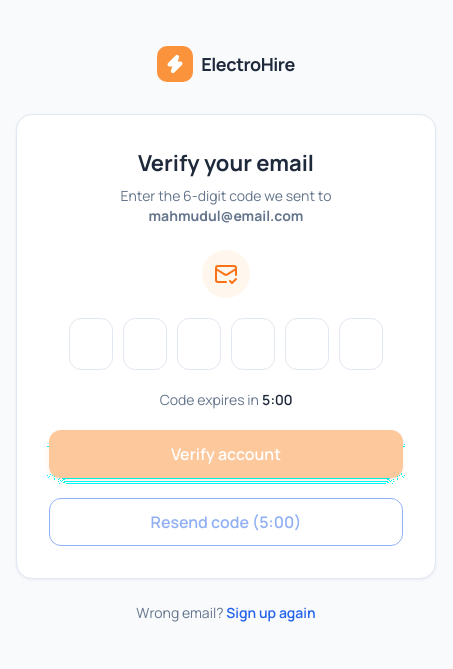
Test case: VerifyOtpPage › shows an error and stays on the page for an invalid OTP
In the 1st field: {"x": 91, "y": 344} [69,318,113,370], type "9"
In the 2nd field: {"x": 145, "y": 344} [123,318,167,370], type "9"
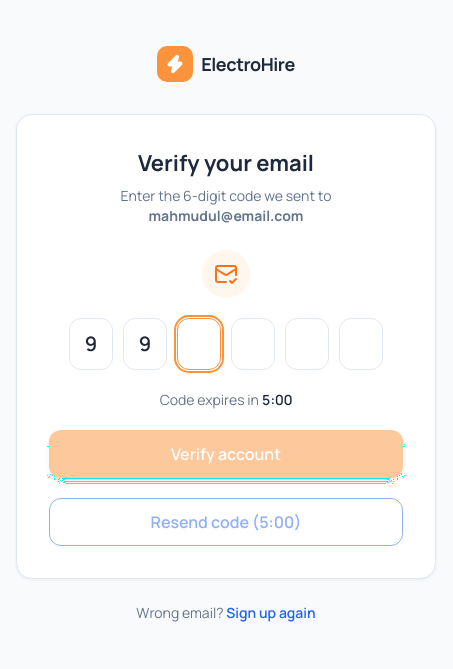
In the 3rd field: {"x": 199, "y": 344} [177,318,221,370], type "9"
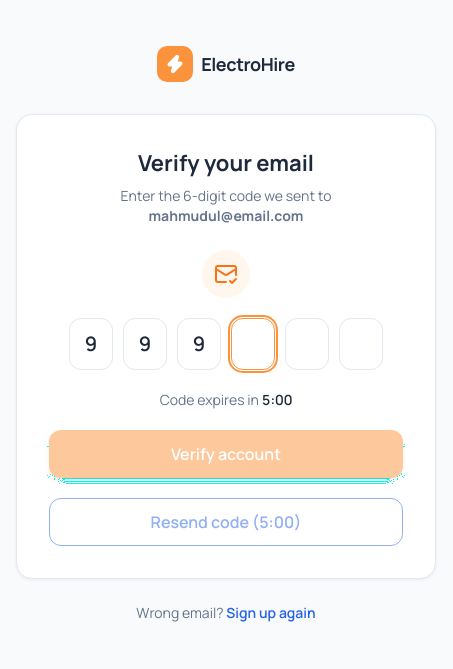
In the 4th field: {"x": 253, "y": 344} [231,318,275,370], type "9"
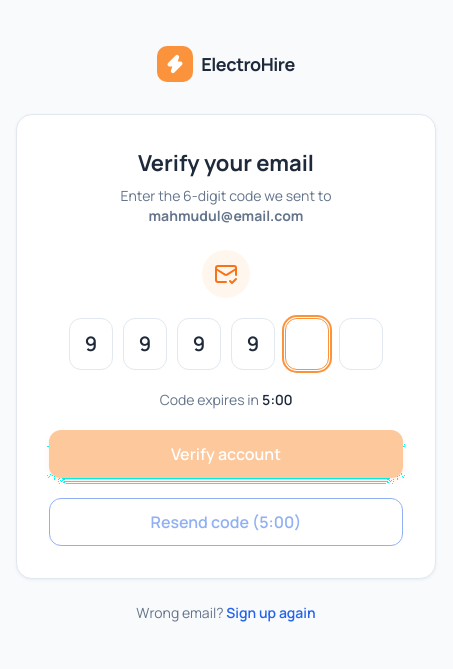
In the 5th field: {"x": 307, "y": 344} [285,318,329,370], type "9"
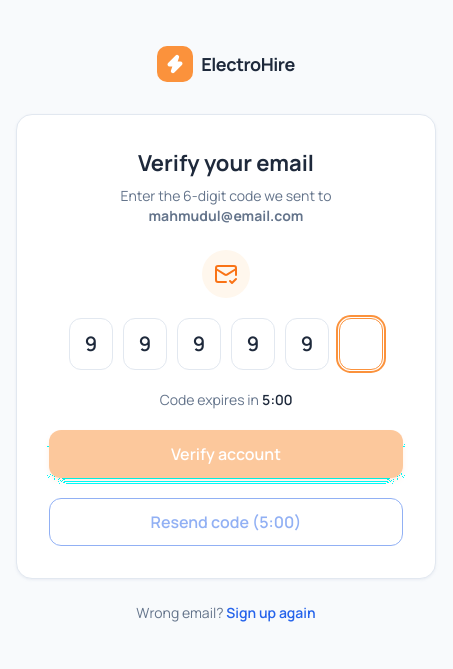
In the 6th field: {"x": 361, "y": 344} [339,318,383,370], type "9"
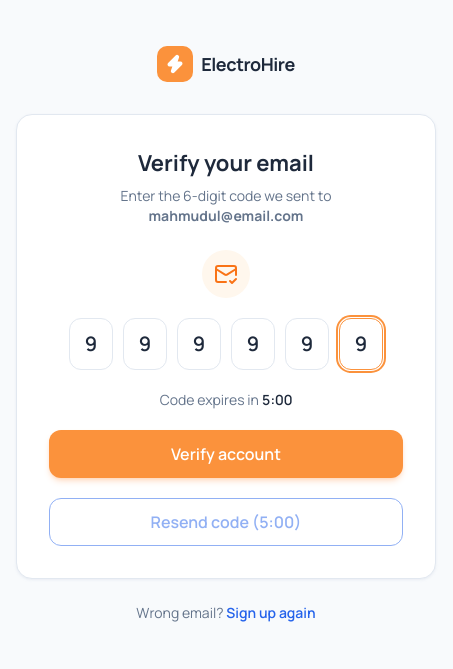
Click the button "Verify account": {"x": 226, "y": 454} [49,430,403,478]
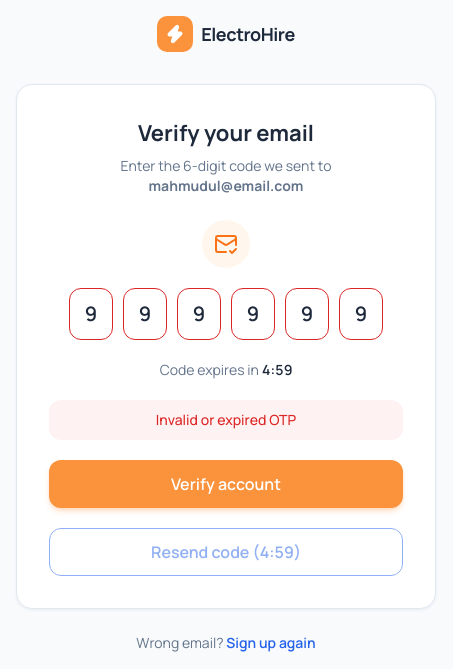
Now the text "Invalid or expired OTP" is shown, box [49,400,403,440]
